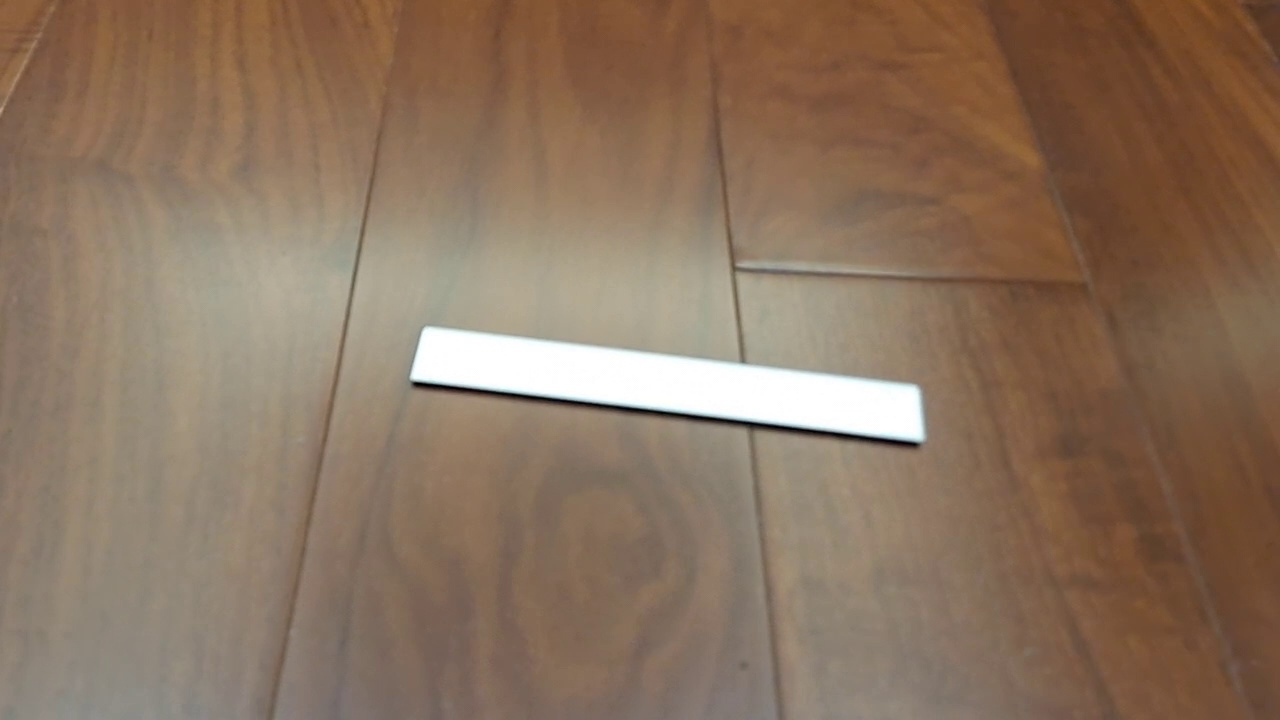ruler: (407, 322, 928, 447)
